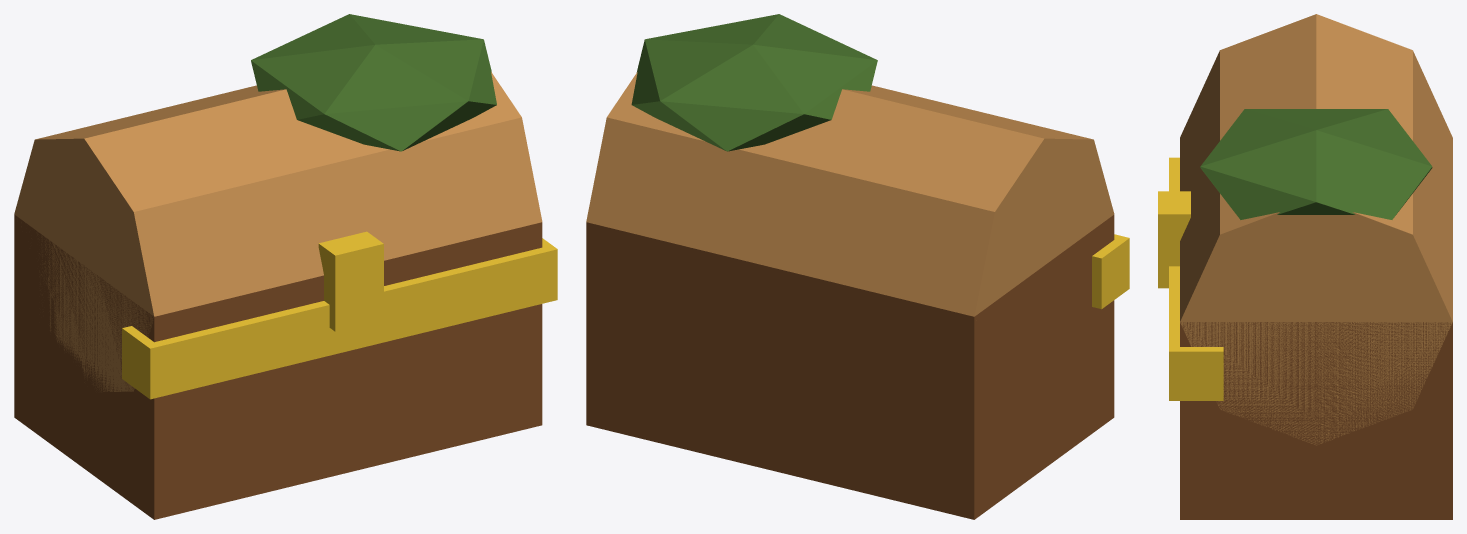
File: treasure_chest_mossy.glb
The picture shows the model from 3 angles, left to right: view 1: azimuth 30°, elevation 25°; view 2: azimuth 150°, elevation 25°; view 3: azimuth 270°, elevation 25°; orthographic projection. The views are drawn at different scales.
Parts seen in each view (by area): view 1: treasure_chest_mossy; view 2: treasure_chest_mossy; view 3: treasure_chest_mossy.
Boxes of the visible parts, left/top/right/bottom form: treasure_chest_mossy: left=14, top=14, right=557, bottom=519; treasure_chest_mossy: left=586, top=14, right=1129, bottom=519; treasure_chest_mossy: left=1158, top=14, right=1452, bottom=519.
Size of the model in its own units: 0.8436 by 0.695 by 0.54.
